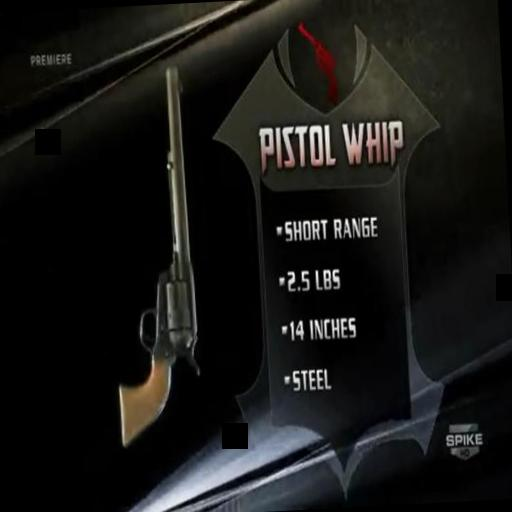Handgun: (92, 52, 230, 480)
